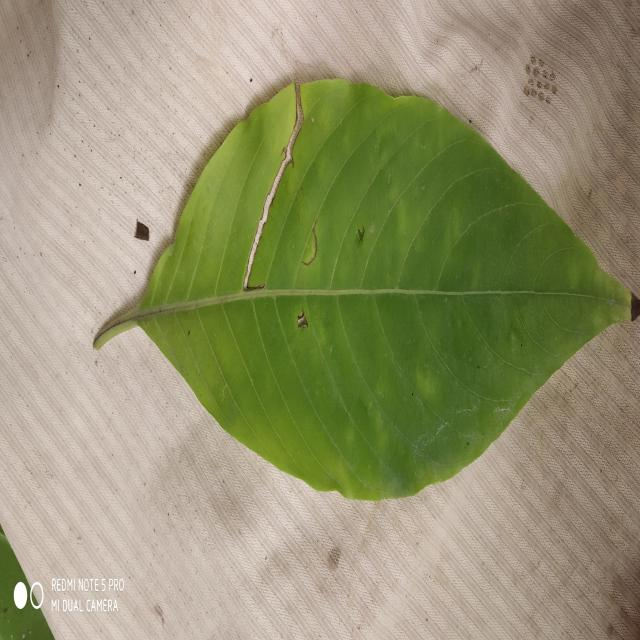leaf spot: (0, 0, 640, 638), (0, 2, 640, 638), (95, 80, 640, 500)
